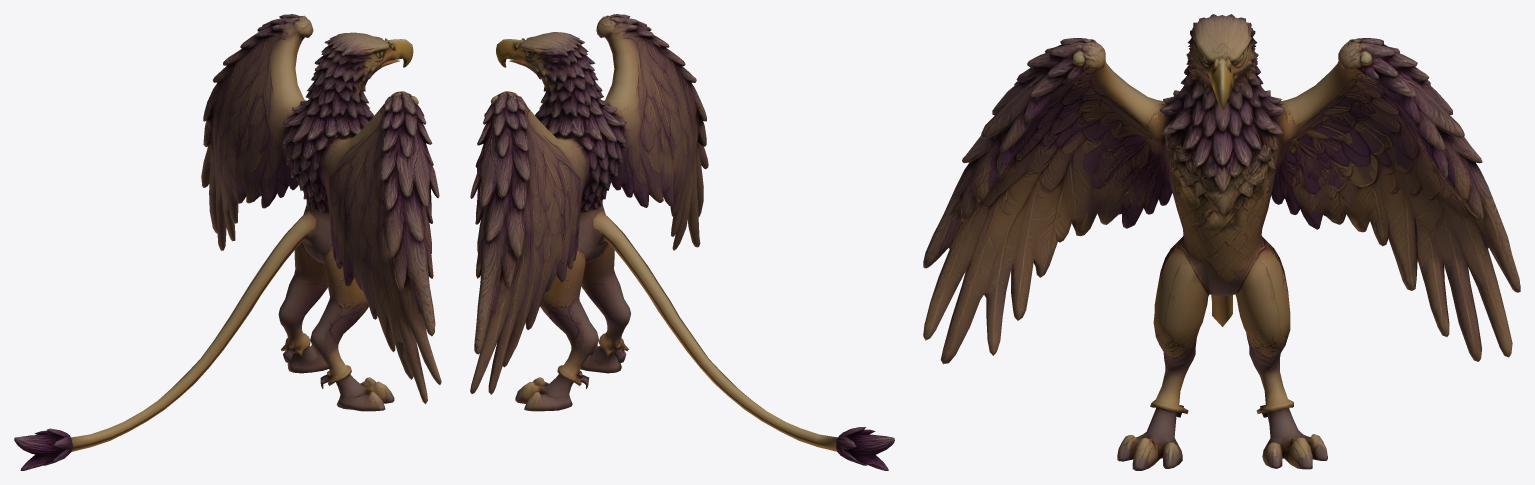
The model's file is r33-griffin.glb.
The picture shows the model from 3 angles, left to right: view 1: azimuth 30°, elevation 25°; view 2: azimuth 150°, elevation 25°; view 3: azimuth 270°, elevation 25°; orthographic projection. The views are drawn at different scales.
Visible parts, largest first — view 1: tripo_node_8fec9eee-ef22-4485-803a-736ea94673af; view 2: tripo_node_8fec9eee-ef22-4485-803a-736ea94673af; view 3: tripo_node_8fec9eee-ef22-4485-803a-736ea94673af.
Boxes of the visible parts, box(x1,y1,x2,y2) form: tripo_node_8fec9eee-ef22-4485-803a-736ea94673af: box(14, 14, 441, 470); tripo_node_8fec9eee-ef22-4485-803a-736ea94673af: box(470, 14, 894, 470); tripo_node_8fec9eee-ef22-4485-803a-736ea94673af: box(923, 14, 1520, 470).
Bounding box in the file's own units: 0.998 × 0.8496 × 0.998.
Materials: 1 (1 with a texture image).
